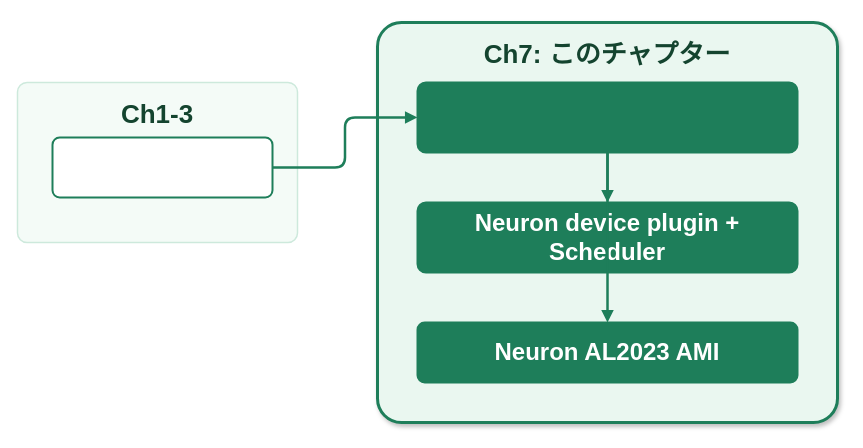
The diagram is 863 pixels wide and 448 high, and some of its shapes have lost their labels. Each missing label, with the centre of its shape:
"accelerator_pools" goes at (x=162, y=167).
"neuron pool (device_plugin=neuron)" goes at (x=607, y=117).
